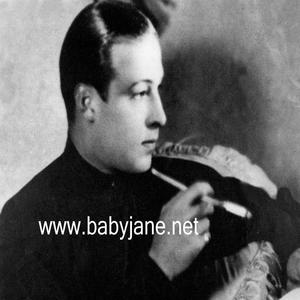cigarette: (150, 165, 257, 225)
